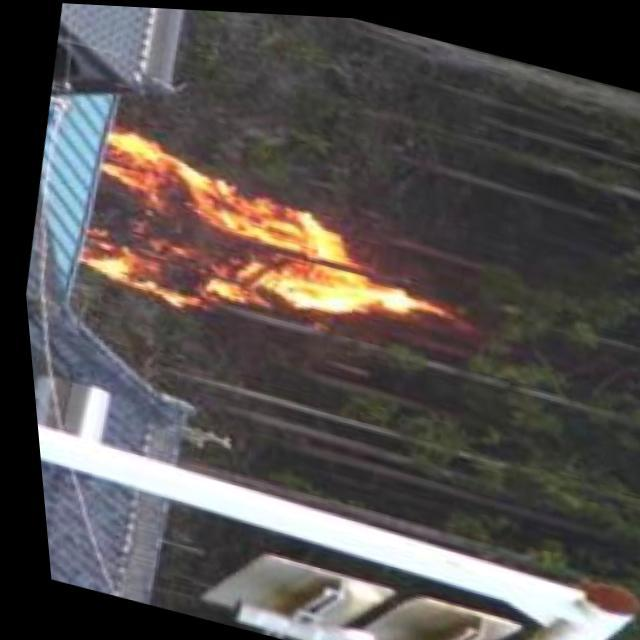fire: (66, 140, 422, 358)
